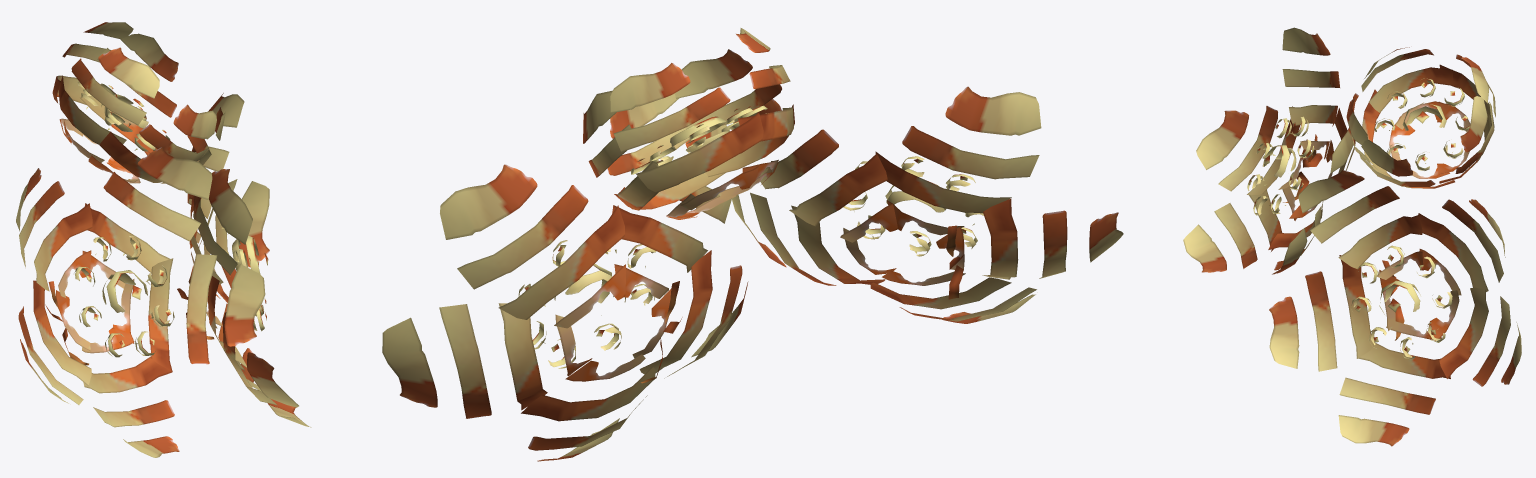
File: pm0197_00_Rig.fbx
3 views of the same model, side by side, from view 1: azimuth 30°, elevation 25°; view 2: azimuth 150°, elevation 25°; view 3: azimuth 270°, elevation 25° (orthographic). The views are drawn at different scales.
Parts seen in each view (by area): view 1: doodad_spring_2023_flower; view 2: doodad_spring_2023_flower; view 3: doodad_spring_2023_flower.
Part boxes in pixels (x1,y1,x2,y2): doodad_spring_2023_flower: (16,22,311,457); doodad_spring_2023_flower: (382,28,1123,461); doodad_spring_2023_flower: (1183,27,1521,446).
Bounding box in the file's own units: 0.1048 × 0.0921 × 0.0851.
